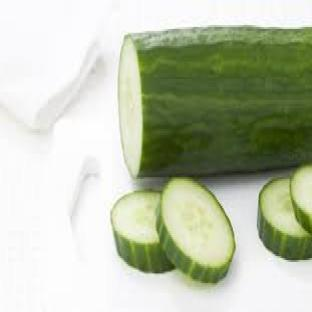Cucumber: (119, 27, 311, 177), (157, 178, 234, 283), (112, 191, 173, 273), (258, 178, 311, 259), (290, 164, 311, 233)
